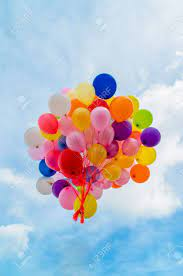Balloon: (93, 73, 117, 99), (58, 149, 82, 172), (110, 96, 132, 121), (48, 92, 71, 115), (75, 193, 97, 217), (91, 106, 111, 132), (72, 107, 91, 130), (141, 127, 161, 147), (39, 114, 58, 135), (77, 82, 95, 104), (59, 186, 76, 209), (131, 163, 150, 183), (87, 144, 107, 163), (66, 131, 86, 150), (134, 110, 153, 128), (37, 175, 54, 195), (137, 147, 155, 164), (122, 138, 138, 156), (104, 163, 120, 180)
